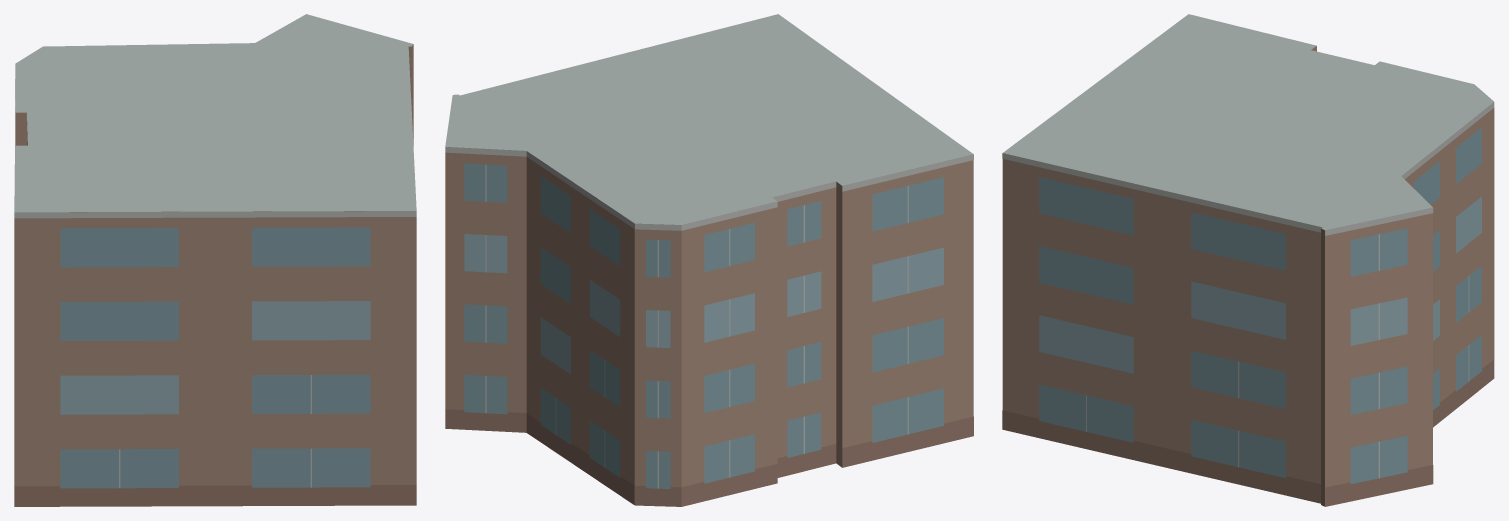
Rendered from survey-upis-32779159.glb.
3 views of the same model, side by side, from view 1: azimuth 30°, elevation 25°; view 2: azimuth 150°, elevation 25°; view 3: azimuth 270°, elevation 25° (orthographic). The views are drawn at different scales.
Parts seen in each view (by area): view 1: survey-upis-32779159.tmp; view 2: survey-upis-32779159.tmp; view 3: survey-upis-32779159.tmp.
Boxes of the visible parts, box(x1,y1,x2,y2) form: survey-upis-32779159.tmp: box(14, 14, 416, 506); survey-upis-32779159.tmp: box(445, 14, 973, 506); survey-upis-32779159.tmp: box(1002, 14, 1494, 506).
Size of the model in its own units: 19.96 by 11.9 by 19.19.
